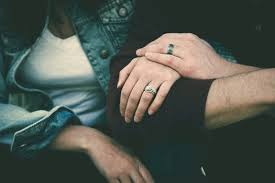hand: (133, 23, 219, 77), (72, 124, 147, 181), (111, 58, 166, 117)
